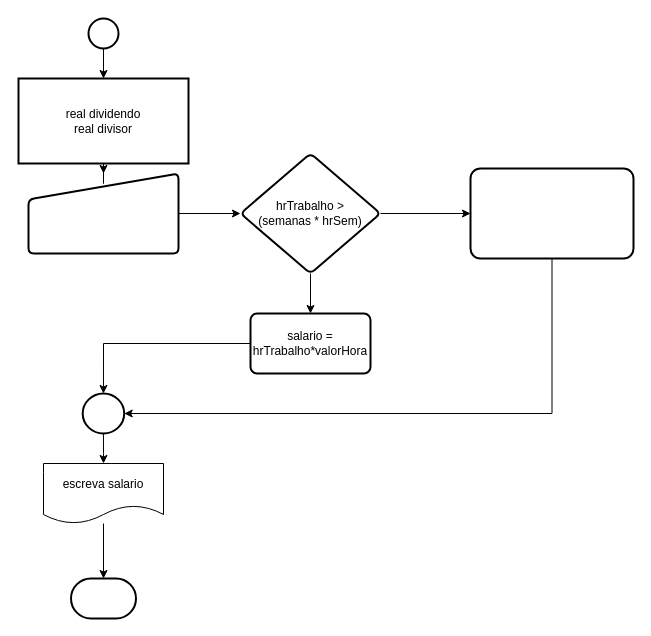
Some shapes in this 651 by 636 pixel diagram are drawn without their labels. The shapes that lost their labels are listed below. From the top down, each one's box as (x1, y1, x2, y2) in pixels, then its label:
(27, 172, 179, 254): leia valorHora leia hrTrabalho
(469, 167, 634, 259): salario = (1.3*hrTrabalho - 0.3*Semanas*hrSem) *valorHora
